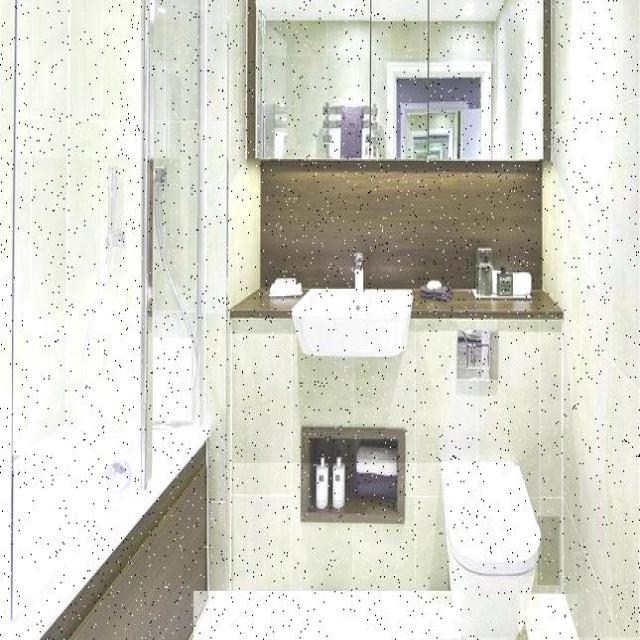Wall: (205, 0, 639, 637), (12, 0, 141, 455), (234, 464, 448, 591), (151, 0, 199, 338), (194, 592, 461, 639), (154, 242, 192, 421), (0, 0, 14, 467), (520, 595, 577, 640), (538, 517, 560, 585)
